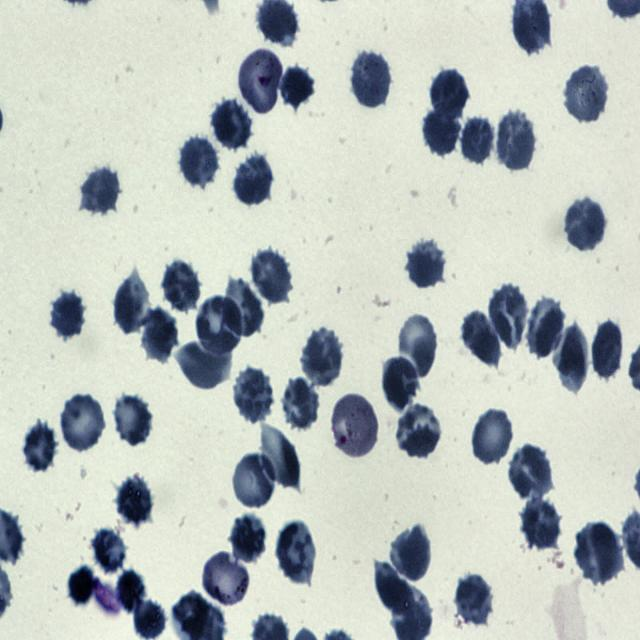red blood cell: (196, 294, 244, 356), (59, 391, 106, 452), (397, 310, 439, 377), (175, 339, 230, 390), (230, 452, 278, 510), (470, 405, 516, 465), (258, 424, 301, 488), (488, 282, 530, 347), (563, 64, 610, 122), (576, 523, 622, 582), (274, 520, 317, 582), (494, 110, 536, 173), (300, 328, 344, 387), (222, 278, 264, 339), (554, 324, 592, 389), (397, 404, 442, 458), (508, 446, 553, 500), (392, 524, 433, 583), (527, 298, 566, 360), (350, 50, 392, 107), (112, 272, 150, 335), (564, 198, 608, 251), (250, 248, 292, 303), (111, 392, 153, 447), (232, 367, 274, 422), (79, 164, 121, 217), (381, 355, 420, 412), (453, 573, 494, 627), (161, 259, 202, 313), (462, 311, 502, 366), (280, 376, 320, 430), (430, 68, 470, 122), (422, 106, 462, 160), (179, 135, 219, 188), (116, 472, 154, 527), (522, 498, 561, 551), (141, 309, 178, 364), (21, 421, 60, 473), (212, 98, 252, 148), (234, 155, 273, 206), (404, 240, 444, 288), (592, 319, 622, 383), (231, 512, 268, 563), (280, 61, 317, 112), (461, 114, 496, 165), (48, 291, 84, 340), (92, 526, 127, 576), (116, 568, 148, 617), (134, 599, 167, 640)
ring: (330, 391, 381, 460), (238, 46, 283, 116), (199, 551, 250, 607)
